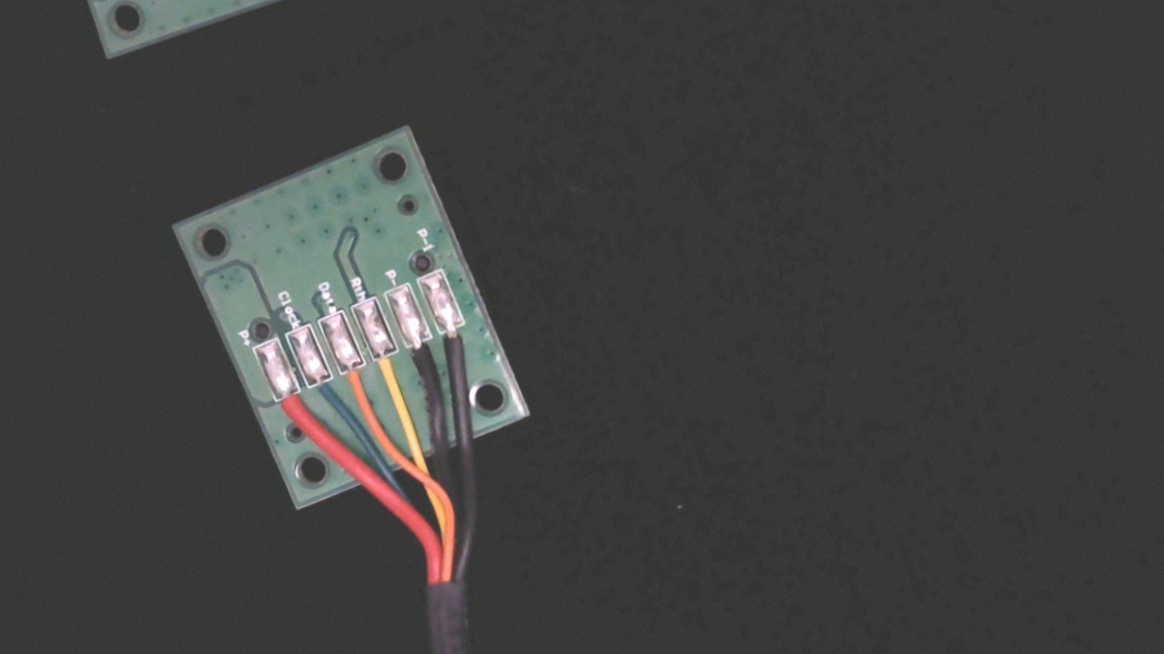Black: (397, 323, 451, 398)
Black1: (434, 311, 485, 380)
Green: (300, 363, 353, 435)
Orange: (332, 351, 384, 424)
Red: (269, 375, 322, 447)
Yellow: (365, 337, 419, 413)
